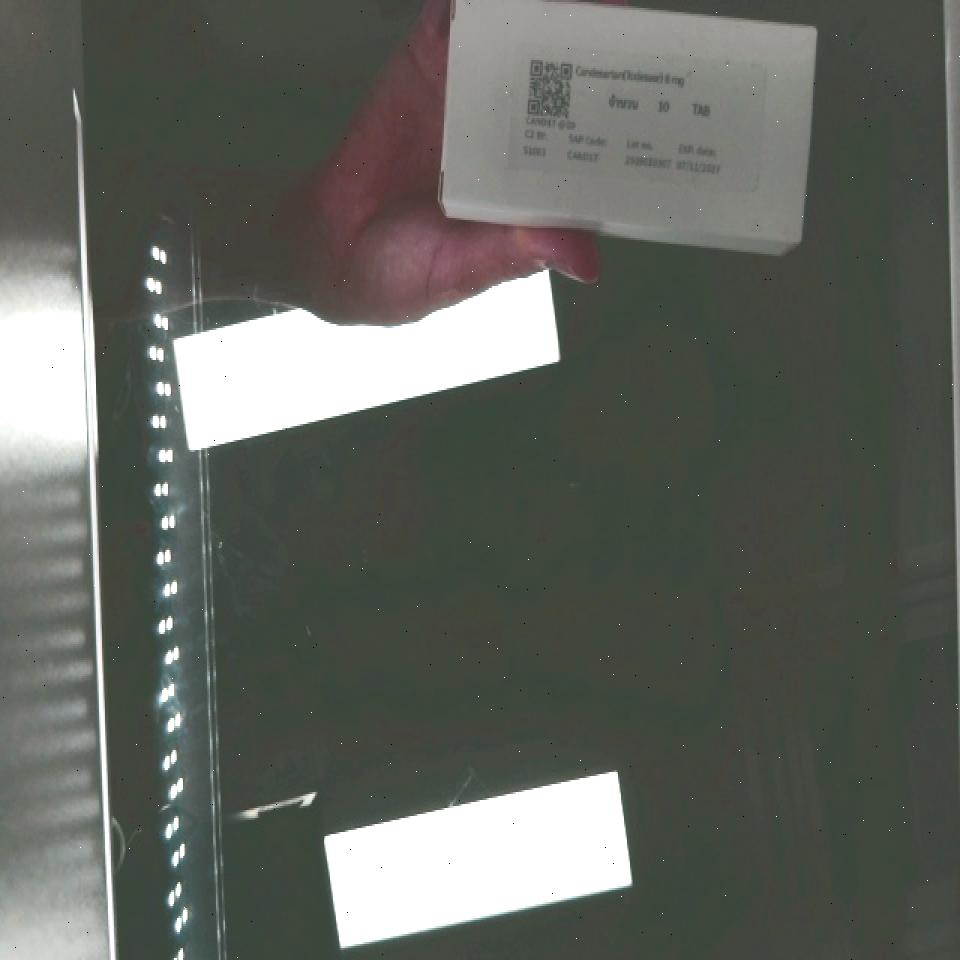medicine_box: (435, 2, 817, 237)
qr_code: (509, 44, 592, 142)
